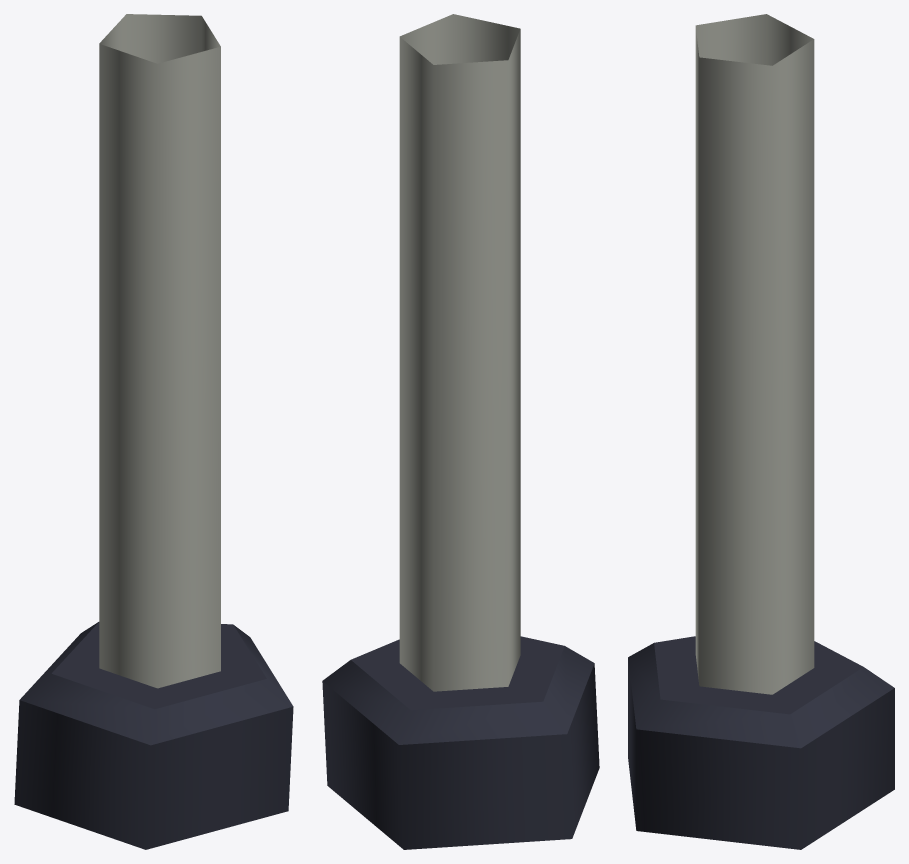
Rendered from Antene_2_F_1h.fbx.
3 renders of one model, left to right at view 1: azimuth 30°, elevation 25°; view 2: azimuth 150°, elevation 25°; view 3: azimuth 270°, elevation 25°, orthographic.
Visible parts, largest first — view 1: Antene_2_F_1h; view 2: Antene_2_F_1h; view 3: Antene_2_F_1h.
Boxes of the visible parts, x1,y1,x2,y2 form: Antene_2_F_1h: [14, 14, 293, 849]; Antene_2_F_1h: [322, 14, 599, 849]; Antene_2_F_1h: [628, 14, 894, 849].
Size of the model in its own units: 18.44 by 54.54 by 17.44.
